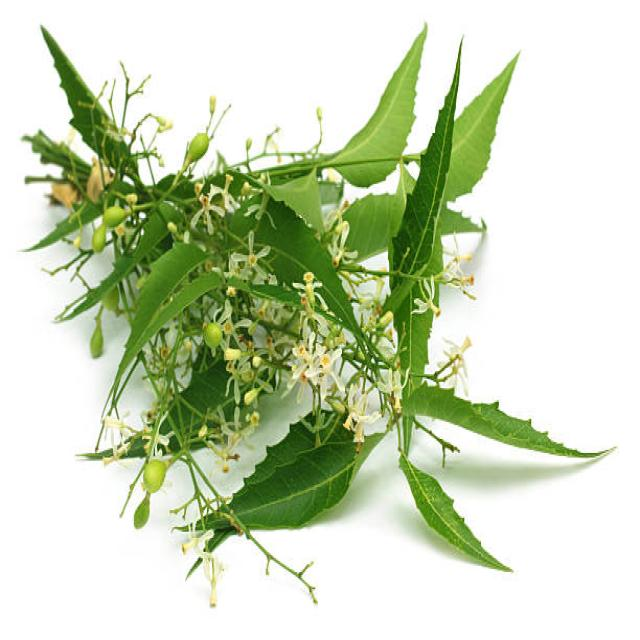Neem-Tree: (25, 30, 608, 570)
